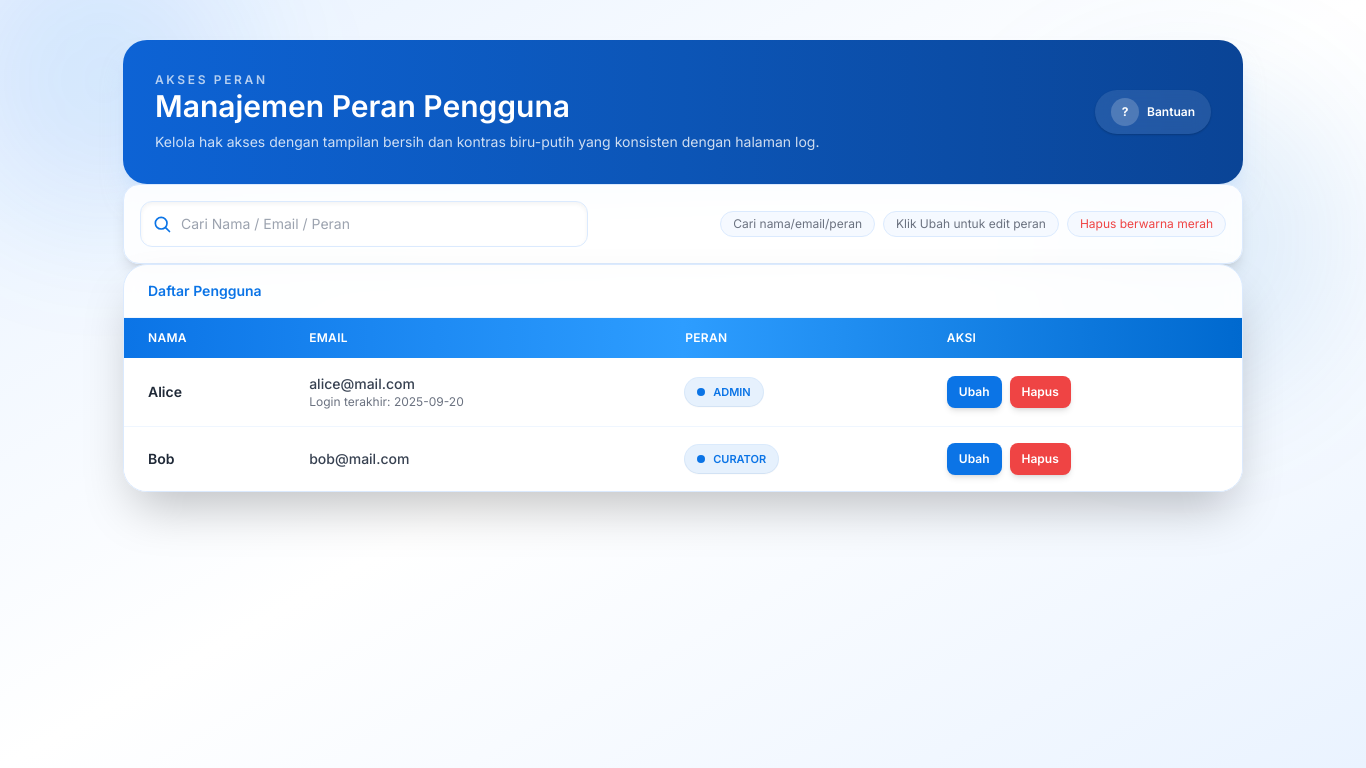
renders users and filters via search
expect the text "Alice" is shown: met, box [148,383,182,400]
In the field with placeholder "Cari Nama / Email / Peran": (364, 224) [140,201,588,247], type "bob"
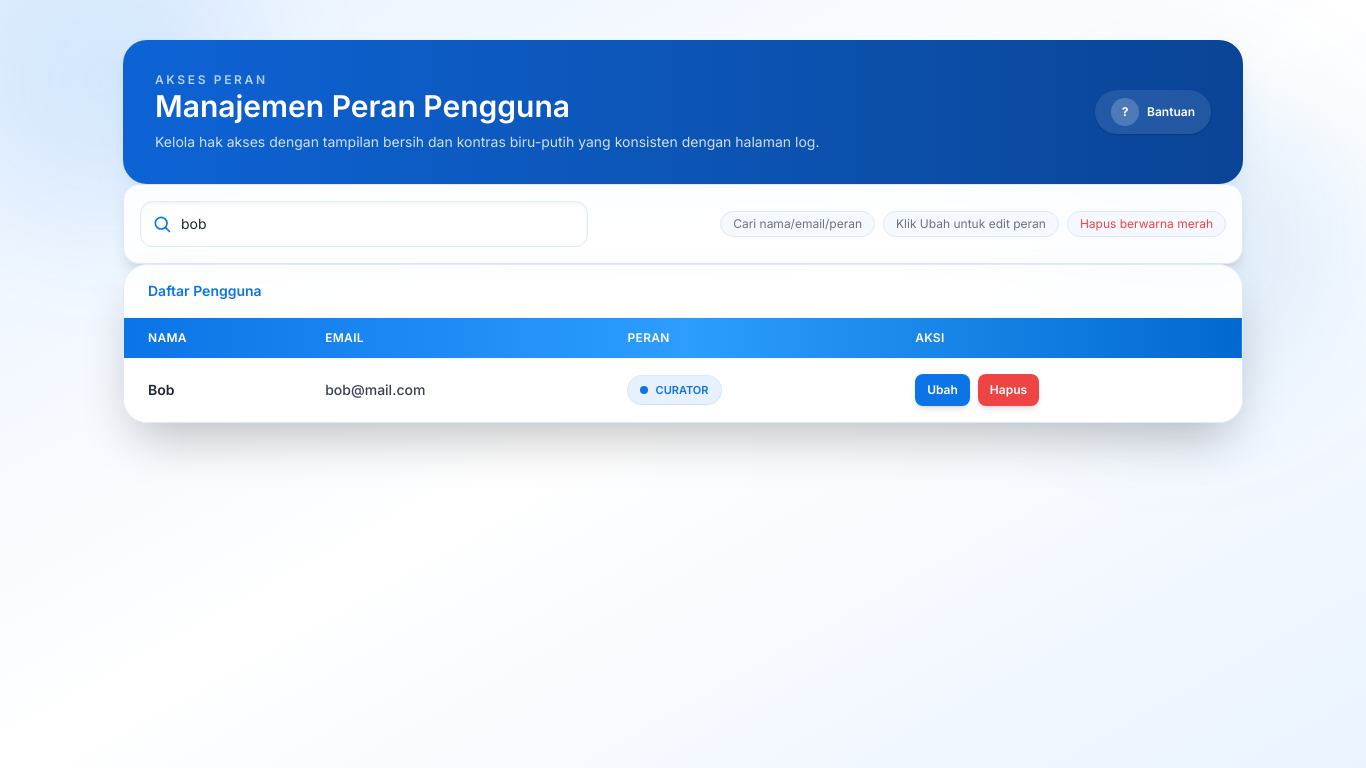
expect the text "Bob" is shown: met, box [148,381,174,398]
expect the text "Alice" is gone: met
